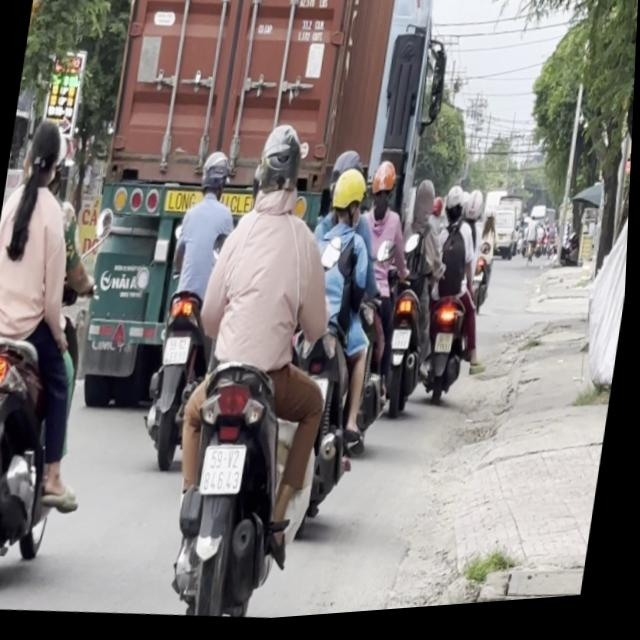helmet: (251, 122, 309, 210), (328, 167, 370, 228), (196, 148, 232, 204), (368, 161, 400, 218), (411, 180, 438, 227), (442, 187, 467, 229), (464, 192, 487, 227)
licenseplate: (152, 112, 372, 630), (0, 94, 130, 593), (274, 146, 410, 534), (140, 143, 244, 473), (330, 154, 424, 461), (415, 183, 504, 415), (380, 175, 453, 421)
motorcyclist: (20, 112, 67, 191)
nohelmet: (203, 444, 249, 499), (165, 336, 193, 368), (393, 332, 413, 355), (436, 337, 455, 360), (0, 430, 1, 480)
